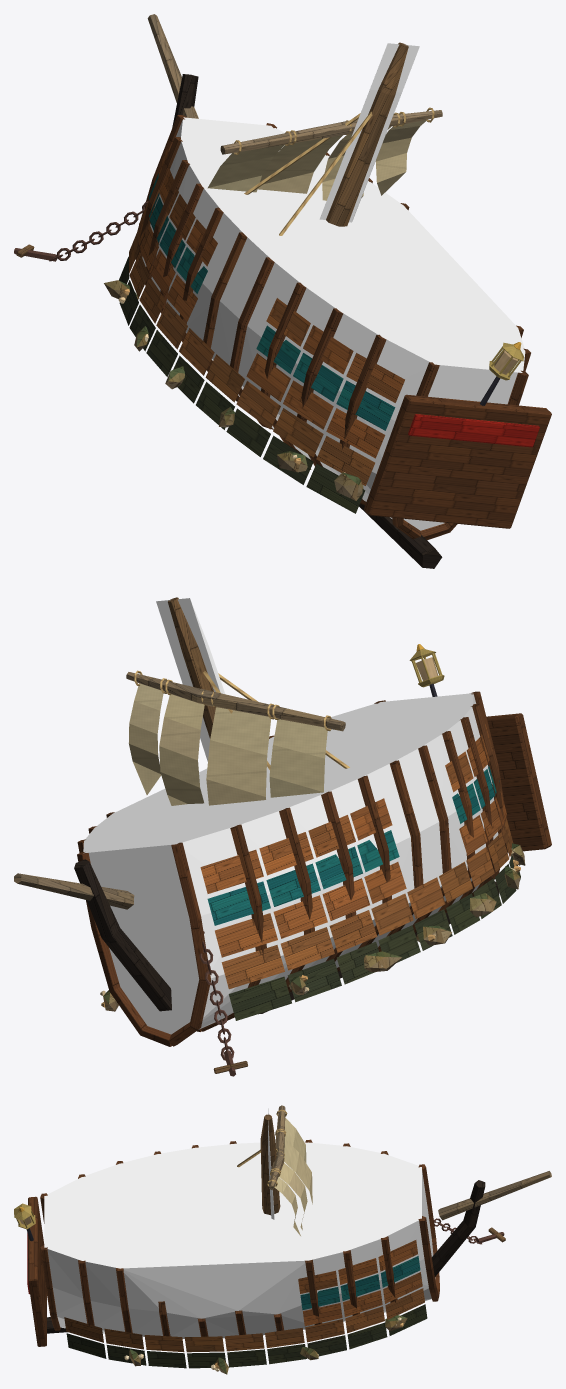
Rendered from shipwreck_hulk.glb.
3 views of the same model, one above another, from view 1: azimuth 30°, elevation 25°; view 2: azimuth 150°, elevation 25°; view 3: azimuth 270°, elevation 25° (orthographic). The views are drawn at different scales.
Parts seen in each view (by area): view 1: ShipwreckHulk, col_wreck_hull, col_wreck_mast; view 2: ShipwreckHulk, col_wreck_hull, col_wreck_mast; view 3: col_wreck_hull, ShipwreckHulk.
Part boxes in pixels (x1,y1,x2,y2): ShipwreckHulk: (14,14,551,568); col_wreck_hull: (142,117,525,530); col_wreck_mast: (319,43,419,222); ShipwreckHulk: (14,597,551,1076); col_wreck_hull: (83,693,498,1034); col_wreck_mast: (156,598,224,761); col_wreck_hull: (44,1142,435,1338); ShipwreckHulk: (14,1105,551,1374).
Bounding box in the file's own units: 6 × 7.45 × 13.6.
8 materials, 7 textured.
